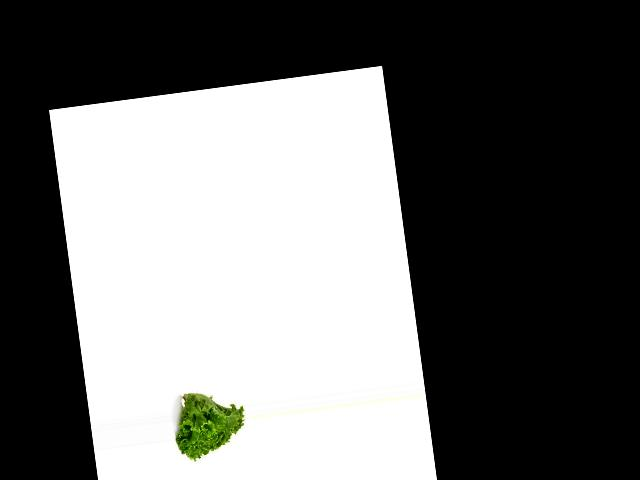lettuce: (169, 381, 252, 466)
